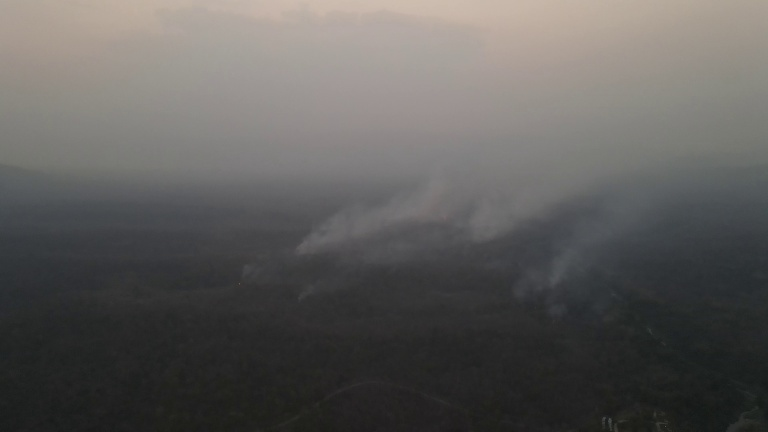smoke: (284, 118, 614, 316)
